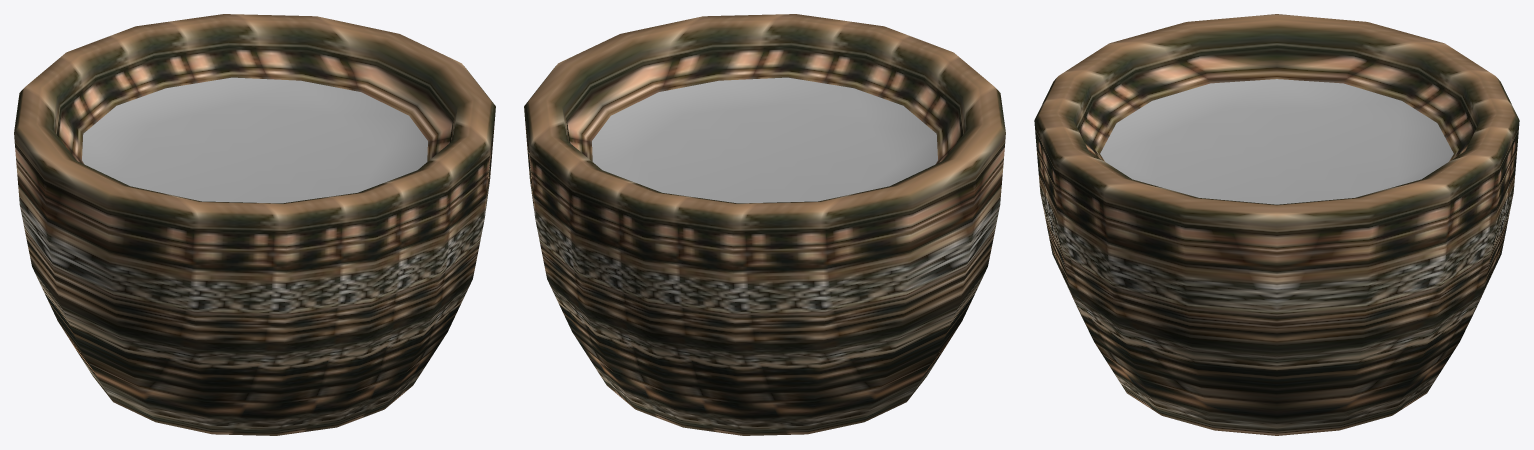
The model's file is Ncense_Burner.fbx.
The picture shows the model from 3 angles, left to right: view 1: azimuth 30°, elevation 25°; view 2: azimuth 150°, elevation 25°; view 3: azimuth 270°, elevation 25°; orthographic projection.
Visible parts, largest first — view 1: Ncense_Burner; view 2: Ncense_Burner; view 3: Ncense_Burner.
Boxes of the visible parts, x1=… form: Ncense_Burner: x1=14, y1=14, x2=495, y2=435; Ncense_Burner: x1=524, y1=14, x2=1005, y2=435; Ncense_Burner: x1=1034, y1=14, x2=1519, y2=435.
Size of the model in its own units: 0.1528 by 0.09 by 0.1528.
Materials: 2 (1 with a texture image).
